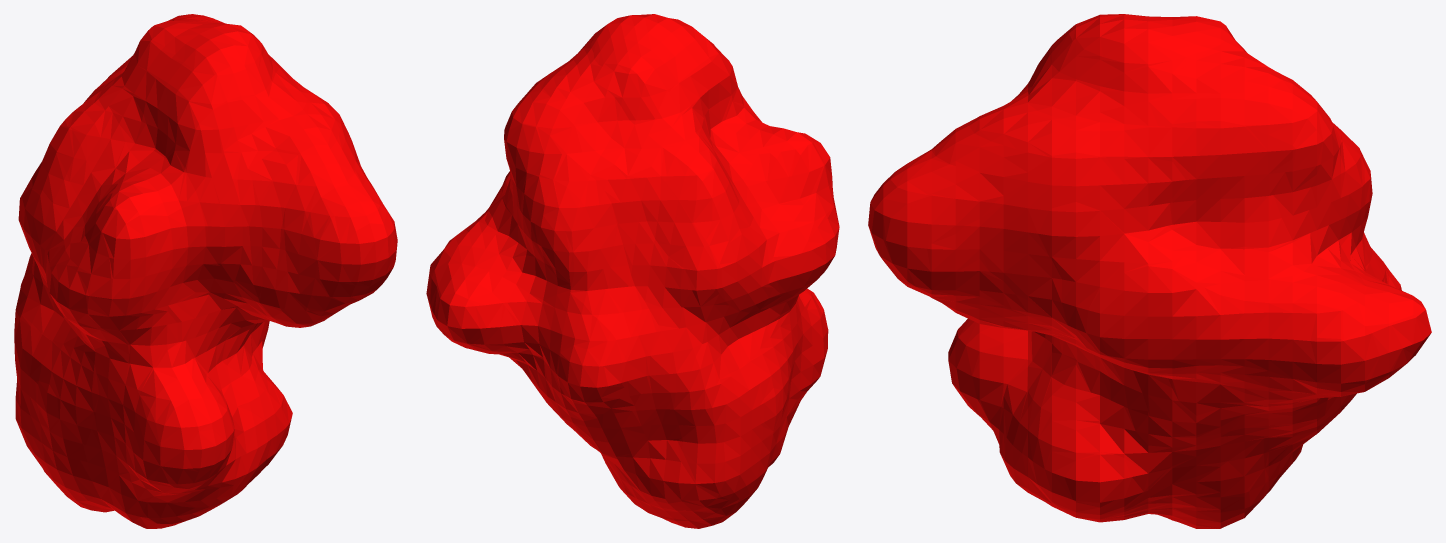
The model's file is sspA_coarse.dae.
3 renders of one model, left to right at view 1: azimuth 30°, elevation 25°; view 2: azimuth 150°, elevation 25°; view 3: azimuth 270°, elevation 25°, orthographic. The views are drawn at different scales.
Visible parts, largest first — view 1: sspA; view 2: sspA; view 3: sspA.
Boxes of the visible parts, <box> form: sspA: <box>14,14,397,528</box>; sspA: <box>426,14,839,528</box>; sspA: <box>868,14,1431,528</box>.
Size of the model in its own units: 38.81 by 58.3 by 54.02.
